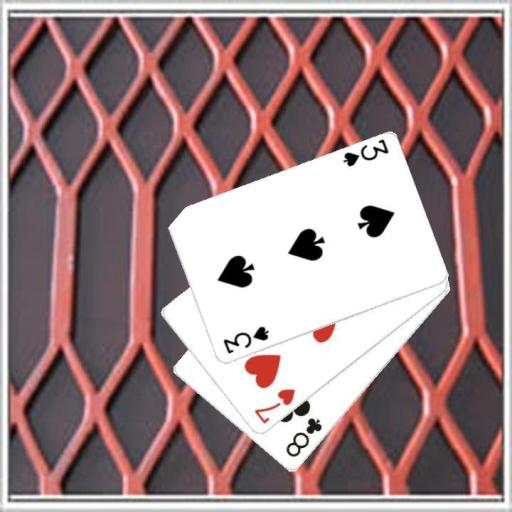3S: (220, 323, 270, 356), (340, 137, 390, 169)
7H: (251, 385, 298, 426)
8C: (283, 415, 325, 460)
